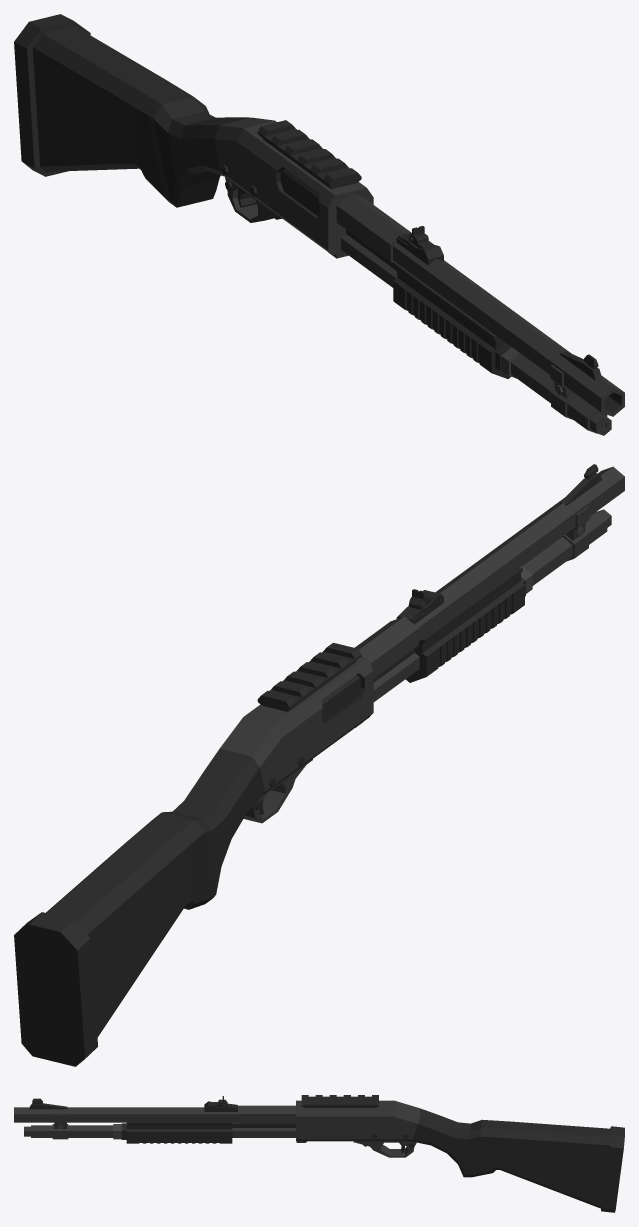
The model's file is ShotGun_B.fbx.
3 views of the same model, one above another, from view 1: azimuth 30°, elevation 25°; view 2: azimuth 150°, elevation 25°; view 3: azimuth 270°, elevation 25° (orthographic). The views are drawn at different scales.
Parts seen in each view (by area): view 1: ShotGun_B_Stock, ShotGun_B_Barrel, ShotGun_B_Receiver, ShotGun_B_BarrelGuard, ShotGun_B_Mag, ShotGun_B_Rail, ShotGun_B_Sight_Back; view 2: ShotGun_B_Stock, ShotGun_B_Receiver, ShotGun_B_Barrel, ShotGun_B_BarrelGuard, ShotGun_B_Mag, ShotGun_B_Rail, ShotGun_B_Sight_Back; view 3: ShotGun_B_Stock, ShotGun_B_Receiver, ShotGun_B_Barrel, ShotGun_B_BarrelGuard, ShotGun_B_Mag, ShotGun_B_Rail, ShotGun_B_Sight_Back, ShotGun_B_Sight_Forward.
Part boxes in pixels (x1,y1,x2,y2): ShotGun_B_Stock: (14, 14, 249, 207); ShotGun_B_Barrel: (336, 193, 624, 419); ShotGun_B_Receiver: (214, 117, 373, 258); ShotGun_B_BarrelGuard: (393, 264, 510, 378); ShotGun_B_Mag: (341, 229, 611, 435); ShotGun_B_Rail: (257, 120, 361, 189); ShotGun_B_Sight_Back: (396, 226, 443, 265); ShotGun_B_Stock: (14, 748, 264, 1066); ShotGun_B_Receiver: (220, 656, 373, 823); ShotGun_B_Barrel: (354, 466, 624, 677); ShotGun_B_BarrelGuard: (405, 567, 524, 682); ShotGun_B_Mag: (373, 509, 611, 701); ShotGun_B_Rail: (257, 642, 361, 711); ShotGun_B_Sight_Back: (396, 589, 443, 624); ShotGun_B_Stock: (411, 1108, 624, 1212); ShotGun_B_Receiver: (296, 1100, 419, 1157); ShotGun_B_Barrel: (14, 1105, 295, 1139); ShotGun_B_BarrelGuard: (126, 1122, 232, 1143); ShotGun_B_Mag: (24, 1122, 295, 1139); ShotGun_B_Rail: (301, 1095, 378, 1107); ShotGun_B_Sight_Back: (204, 1096, 237, 1111); ShotGun_B_Sight_Forward: (29, 1098, 67, 1109).
Bounding box in the file's own units: 0.07 × 0.2147 × 1.08.
